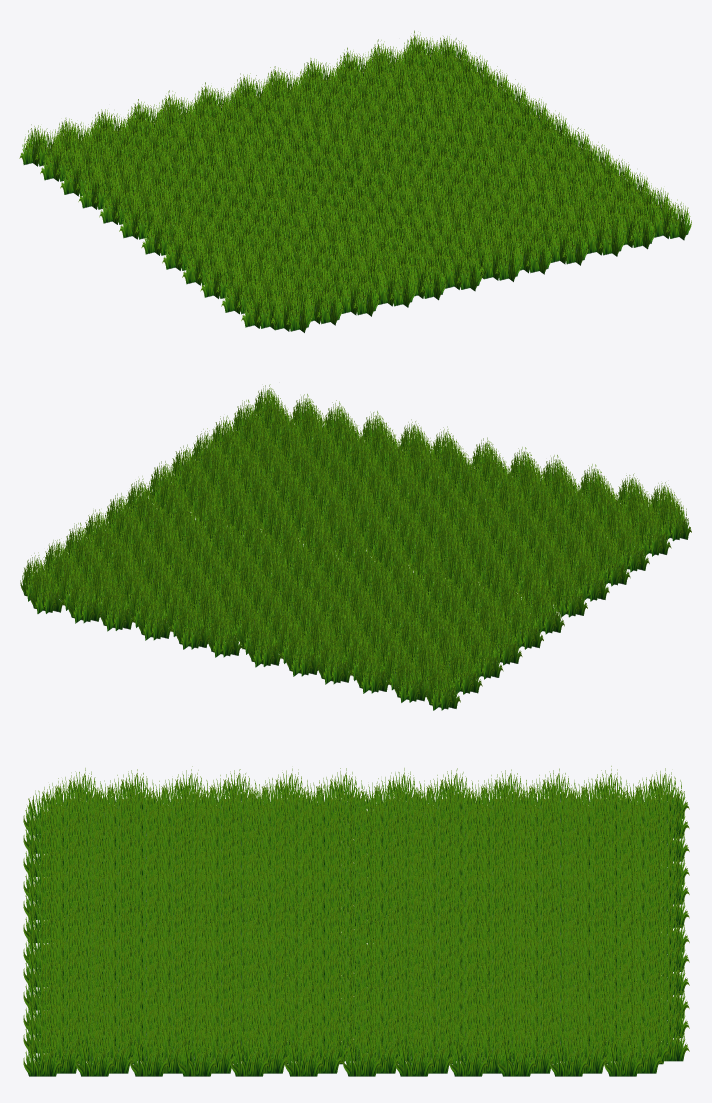
Rendered from field-green-lush.glb.
3 views of the same model, one above another, from view 1: azimuth 30°, elevation 25°; view 2: azimuth 150°, elevation 25°; view 3: azimuth 270°, elevation 25° (orthographic). The views are drawn at different scales.
Visible parts, largest first — view 1: 78f67a44e13965ae3008bbb284401925.000_78f67a44e13965ae3008bbb; view 2: 78f67a44e13965ae3008bbb284401925.000_78f67a44e13965ae3008bbb; view 3: 78f67a44e13965ae3008bbb284401925.000_78f67a44e13965ae3008bbb.
Part boxes in pixels (bbox=[...]): 78f67a44e13965ae3008bbb284401925.000_78f67a44e13965ae3008bbb: bbox=[19, 30, 691, 332]; 78f67a44e13965ae3008bbb284401925.000_78f67a44e13965ae3008bbb: bbox=[20, 384, 691, 710]; 78f67a44e13965ae3008bbb284401925.000_78f67a44e13965ae3008bbb: bbox=[23, 766, 689, 1076].
Size of the model in its own units: 16.35 by 1.58 by 16.56.
1 material, 1 textured.
